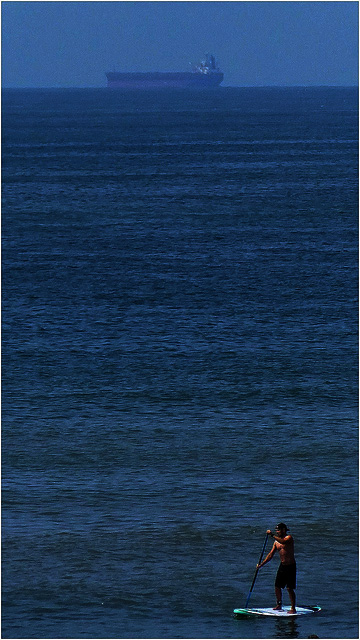bulk carrier: (100, 52, 224, 87)
